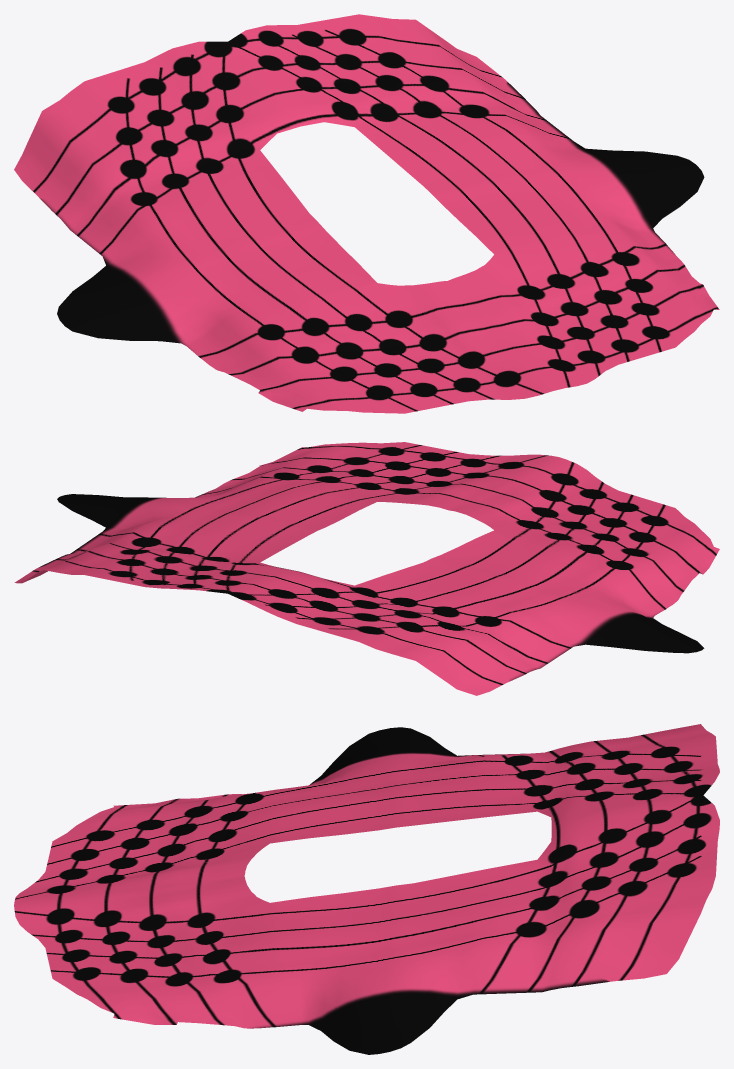
File: Sticker.fbx
3 renders of one model, top to bottom at view 1: azimuth 30°, elevation 25°; view 2: azimuth 150°, elevation 25°; view 3: azimuth 270°, elevation 25°, orthographic. The views are drawn at different scales.
Visible parts, largest first — view 1: sticker; view 2: sticker; view 3: sticker.
Boxes of the visible parts, left/top/right/bottom form: sticker: left=14, top=14, right=719, bottom=413; sticker: left=14, top=442, right=719, bottom=695; sticker: left=14, top=724, right=719, bottom=1054.
Bounding box in the file's own units: 542 × 94.16 × 500.
Materials: 1 (1 with a texture image).
